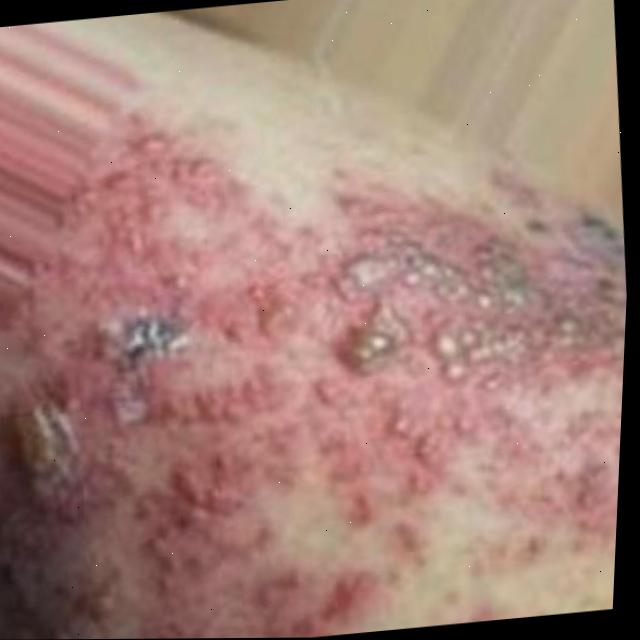Shingles: (0, 80, 636, 640)
